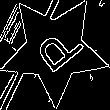P_SW: (24, 20, 85, 80)
